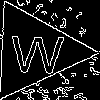W: (9, 26, 65, 74)
